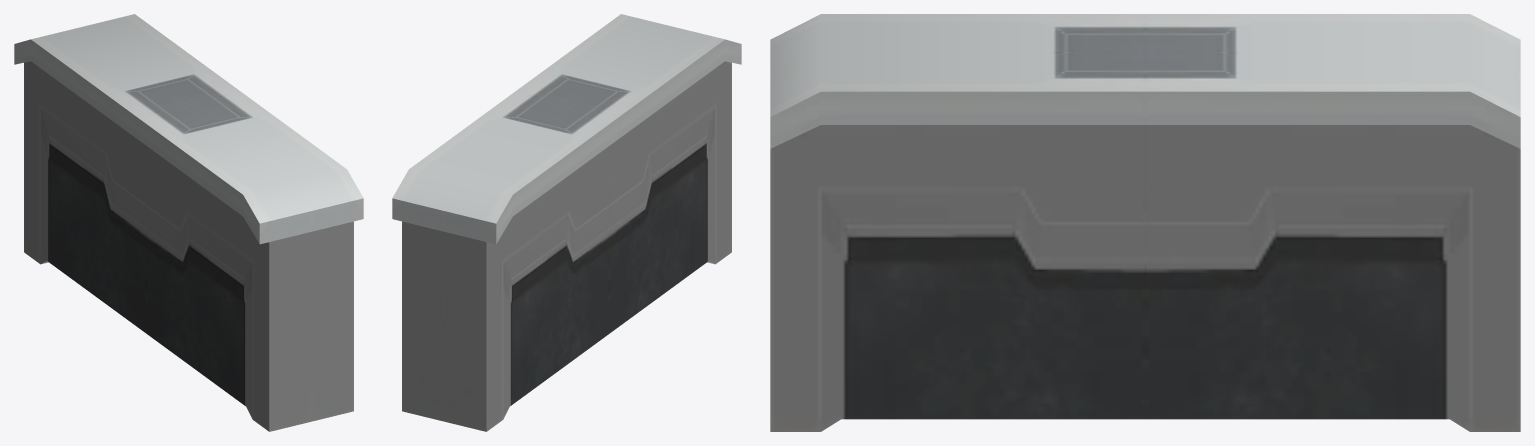
Rendered from Part - Fence 01-Ds9ovn3s.glb.
3 renders of one model, left to right at view 1: azimuth 30°, elevation 25°; view 2: azimuth 150°, elevation 25°; view 3: azimuth 270°, elevation 25°, orthographic. The views are drawn at different scales.
Visible parts, largest first — view 1: Fence_01; view 2: Fence_01; view 3: Fence_01.
Boxes of the visible parts, x1=… form: Fence_01: x1=14, y1=14, x2=363, y2=431; Fence_01: x1=392, y1=14, x2=741, y2=431; Fence_01: x1=770, y1=14, x2=1520, y2=431.
Bounding box in the file's own units: 0.4108 × 0.8582 × 1.68.
Materials: 1 (1 with a texture image).
